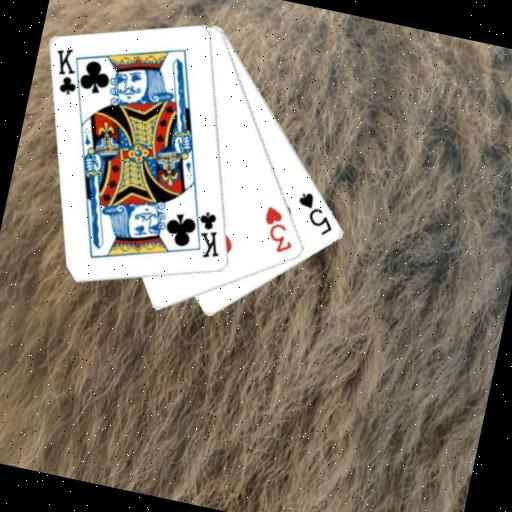3H: (255, 201, 301, 257)
5S: (290, 187, 341, 238)
KC: (182, 203, 229, 262), (45, 43, 92, 102)
